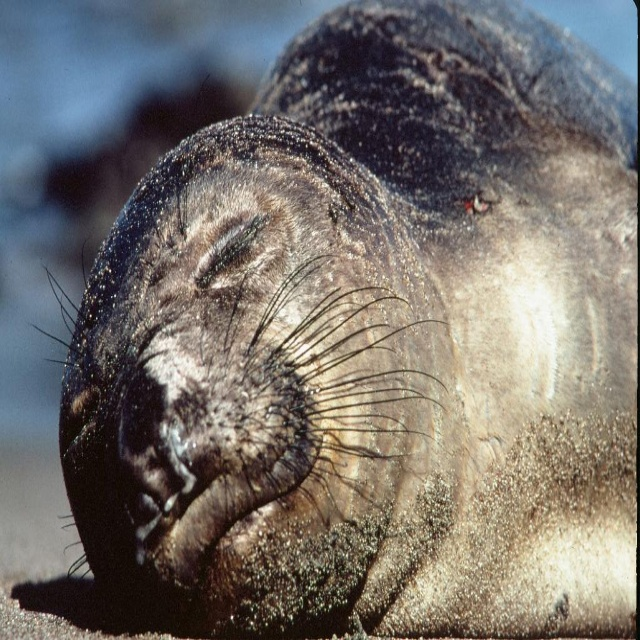Sea lion: (30, 0, 637, 639)
